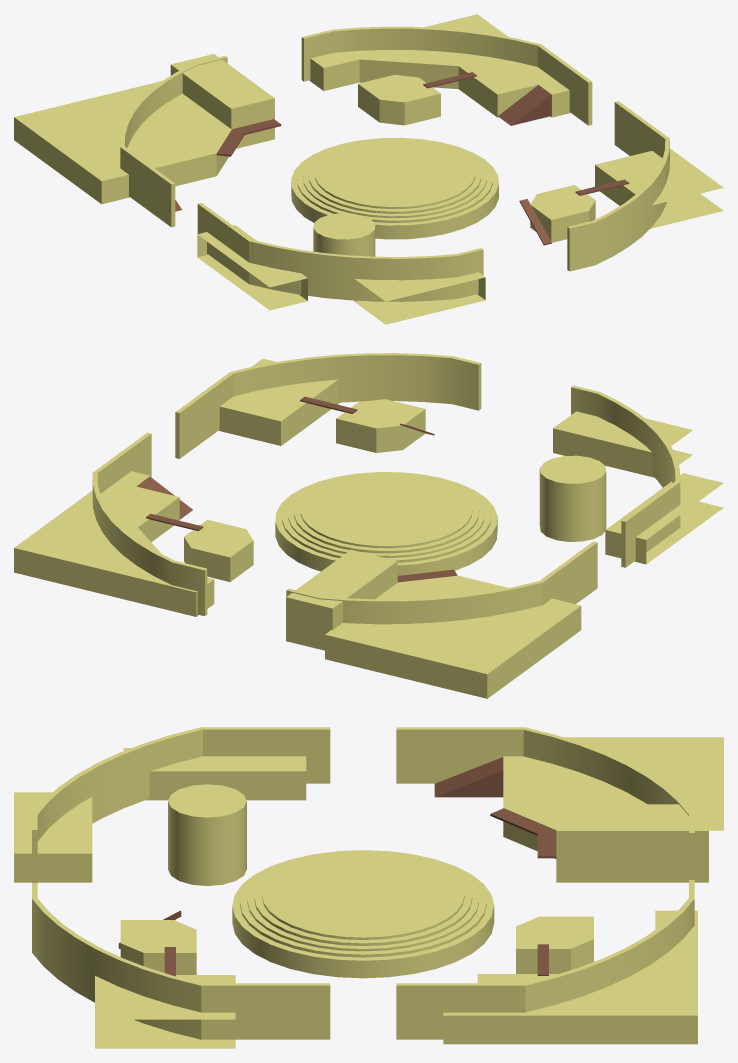
Rendered from level_3.fbx.
3 renders of one model, top to bottom at view 1: azimuth 30°, elevation 25°; view 2: azimuth 150°, elevation 25°; view 3: azimuth 270°, elevation 25°, orthographic. The views are drawn at different scales.
Visible parts, largest first — view 1: Cube.003; view 2: Cube.003; view 3: Cube.003.
Boxes of the visible parts, bbox=[...] form: Cube.003: bbox=[14, 14, 723, 324]; Cube.003: bbox=[14, 353, 723, 698]; Cube.003: bbox=[14, 727, 723, 1048].
Size of the model in its own units: 5994 by 812 by 6367.
